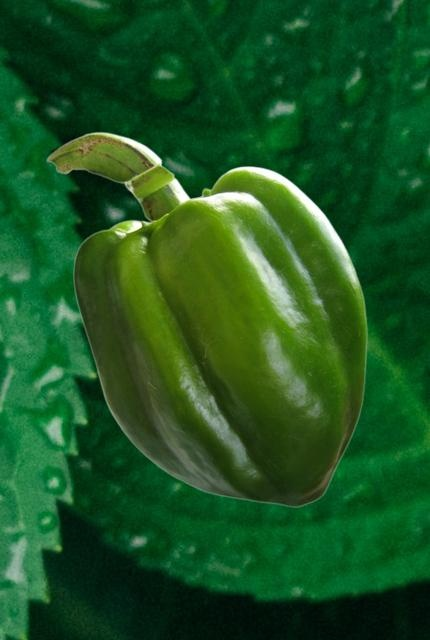bell_pepper: (46, 131, 366, 506)
